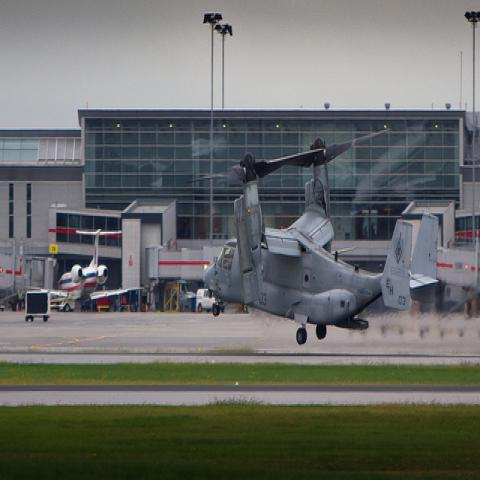truck: (165, 278, 195, 314), (194, 288, 224, 316)
